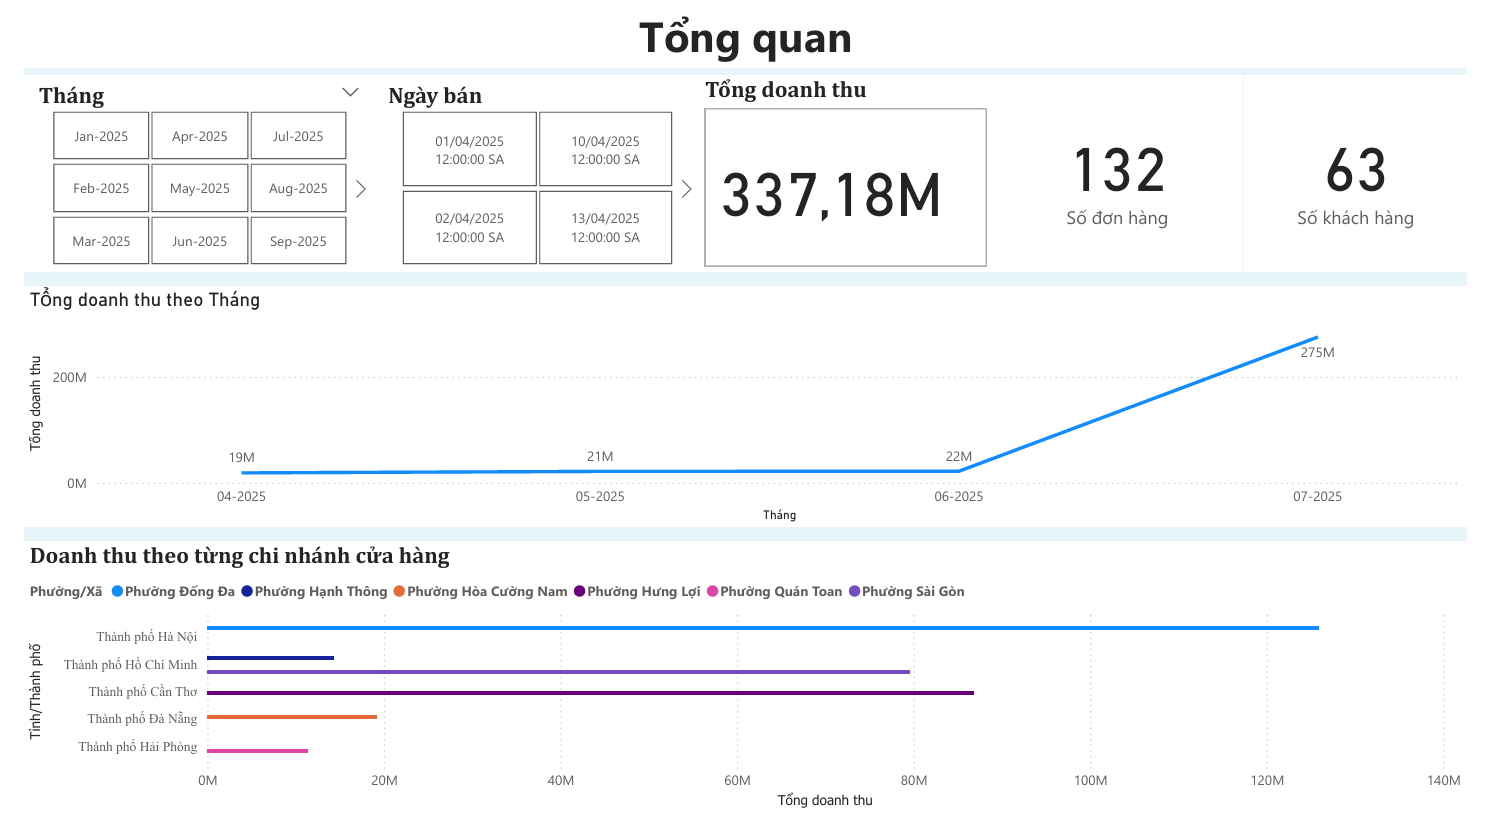

The dashboard page shown, as its layout file describes it:
{"tool":"powerbi","page":{"name":"Sales Overview","canvas":[1280,720],"ordinal":0},"visuals":[{"type":"textbox","box":[0,0,1280,59],"z":0},{"type":"card","fields":{"Values":["Order.Số đơn hàng"]},"box":[858.6,65.7,222.9,174.3],"z":1000},{"type":"card","fields":{"Values":["Category.Total_Customers"]},"box":[1082.9,65.7,197.1,174.3],"z":2000},{"type":"cardVisual","title":"Tổng doanh thu","fields":{"Data":["Order.Total Revenue"]},"box":[598.6,65.7,260,174.3],"z":3000},{"type":"slicer","title":"Ngày bán","fields":{"Values":["Order.Create_Date"]},"box":[310,65.7,288.6,174.3],"z":4000},{"type":"clusteredBarChart","title":"Doanh thu theo từng chi nhánh cửa hàng","fields":{"Category":["Store.Province/City"],"Series":["Store.Ward/Commune"],"Y":["Sum(Order.Total)"]},"box":[0,478.6,1280,241.4],"z":5000},{"type":"slicer","fields":{"Values":["DateTable.MonthYear"]},"box":[0,65.7,310,174.3],"z":6000},{"type":"lineChart","title":"Tổng doanh thu theo Tháng","fields":{"Y":["Order.Total Revenue"],"Category":["Order.OrderMonthLabel"]},"box":[0,252.9,1280,212.9],"z":7000}]}

Visuals, with their boxes in screenshot pixels (x1, y1, x2, y2), scaled from the page's 1280x720 canvas onto the 1491x837 screenshot:
textbox: (x1=0, y1=0, x2=1490, y2=69)
card - Order.Số đơn hàng: (x1=1000, y1=76, x2=1260, y2=279)
card - Category.Total_Customers: (x1=1261, y1=76, x2=1490, y2=279)
"Tổng doanh thu" cardVisual: (x1=697, y1=76, x2=1000, y2=279)
"Ngày bán" slicer: (x1=361, y1=76, x2=697, y2=279)
"Doanh thu theo từng chi nhánh cửa hàng" clusteredBarChart: (x1=0, y1=556, x2=1490, y2=836)
slicer - DateTable.MonthYear: (x1=0, y1=76, x2=361, y2=279)
"Tổng doanh thu theo Tháng" lineChart: (x1=0, y1=294, x2=1490, y2=541)
